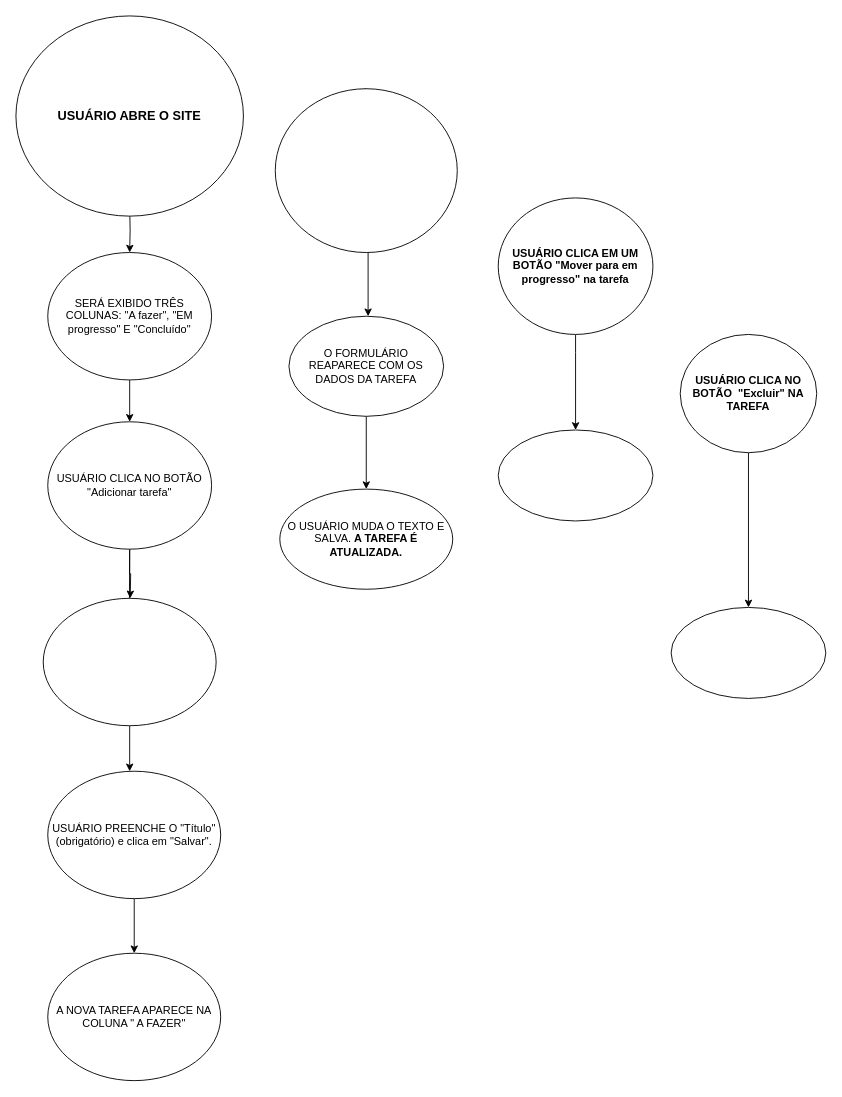
The diagram is 842 pixels wide and 1097 high, and some of its shapes have lost their labels. The shapes that lost their labels are listed below. From the top down, each one's centre as x and y in pixels, then its label:
(365,170): USUÁRIO CLICA NO BOTÃO "Editar" em uma tarefa.
(575,475): A TAREFA "PULA" PARA A COLUNA "Em progresso".
(129,661): UM FORMULÁRIO APARECE PEDINDO "Título" E "Descrição"
(748,652): A TAREFA "DESAPARECE.
